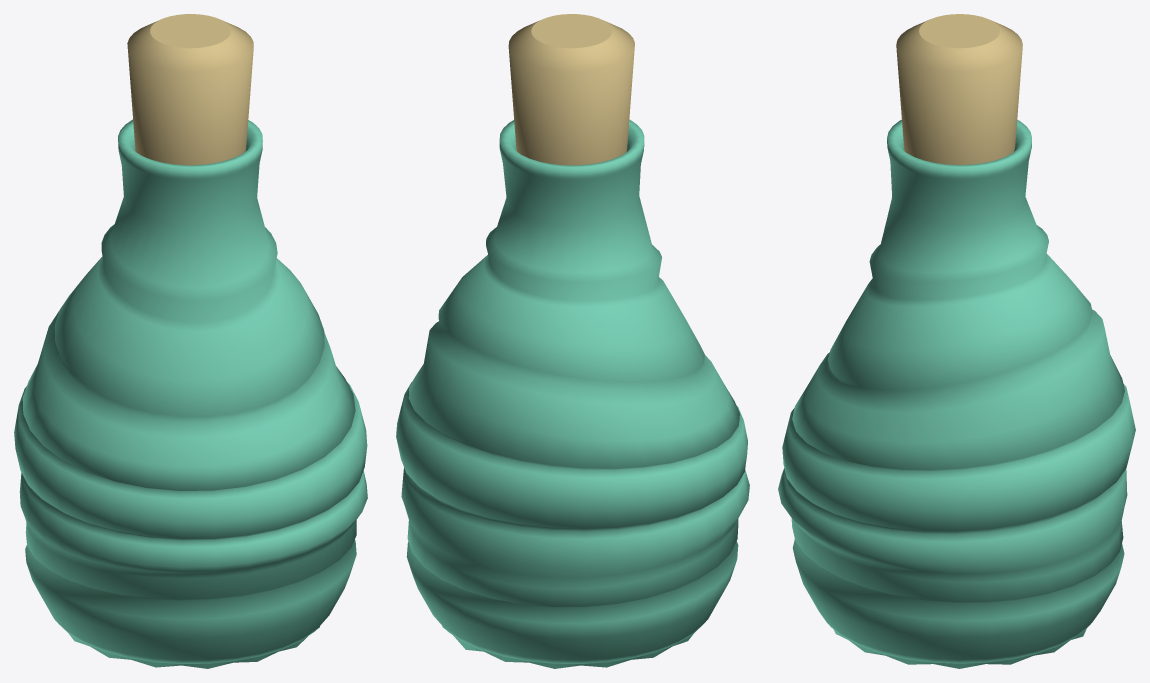
The model's file is Botttle 1.fbx.
3 views of the same model, side by side, from view 1: azimuth 30°, elevation 25°; view 2: azimuth 150°, elevation 25°; view 3: azimuth 270°, elevation 25° (orthographic).
Visible parts, largest first — view 1: Body Shell, Cylinder.001; view 2: Body Shell, Cylinder.001; view 3: Body Shell, Cylinder.001.
Boxes of the visible parts, x1,y1,x2,y2 form: Body Shell: (14,119,367,668); Cylinder.001: (127,14,253,165); Body Shell: (396,119,749,668); Cylinder.001: (508,14,634,165); Body Shell: (778,119,1135,668); Cylinder.001: (896,14,1022,164).
Size of the model in its own units: 190 by 346 by 192.
